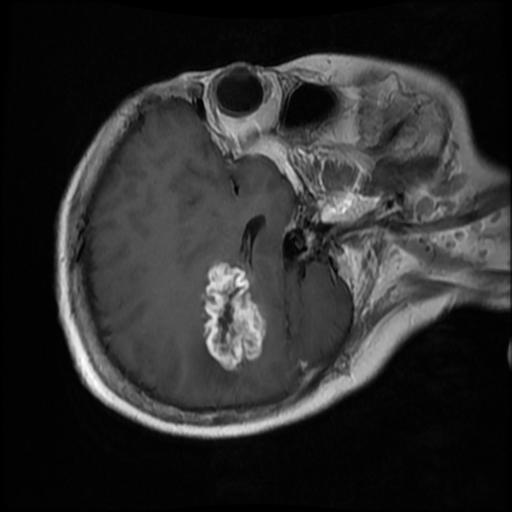glioma: (204, 260, 265, 371)
